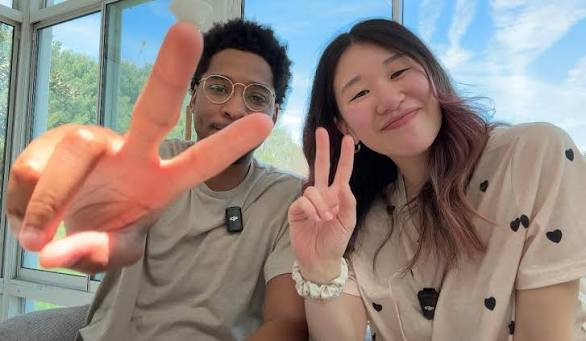peace_sign: (284, 120, 362, 279)
